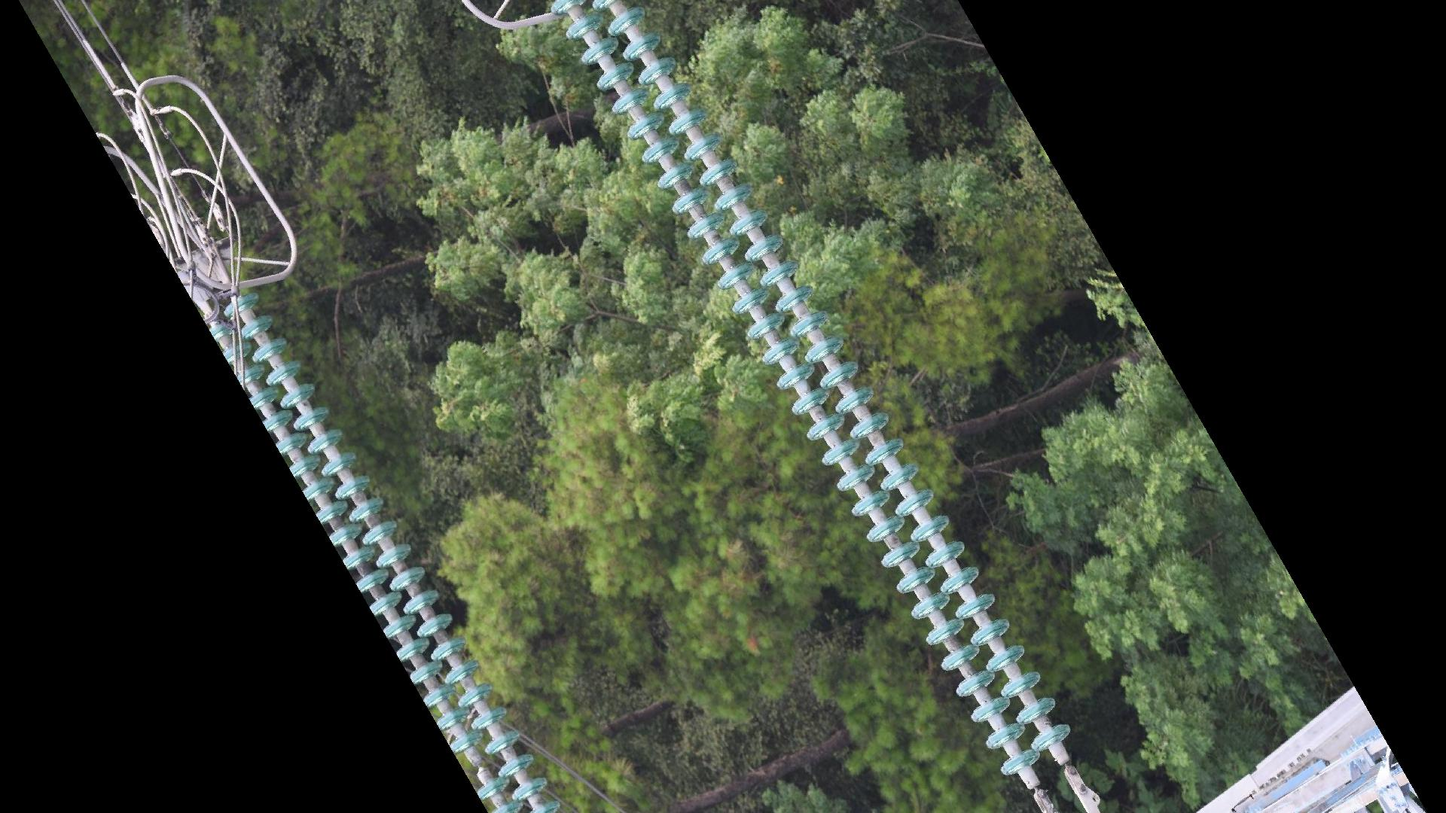insulator: (548, 1, 1075, 784), (199, 290, 569, 813)
insulator_stringdrop: (443, 726, 512, 804)
